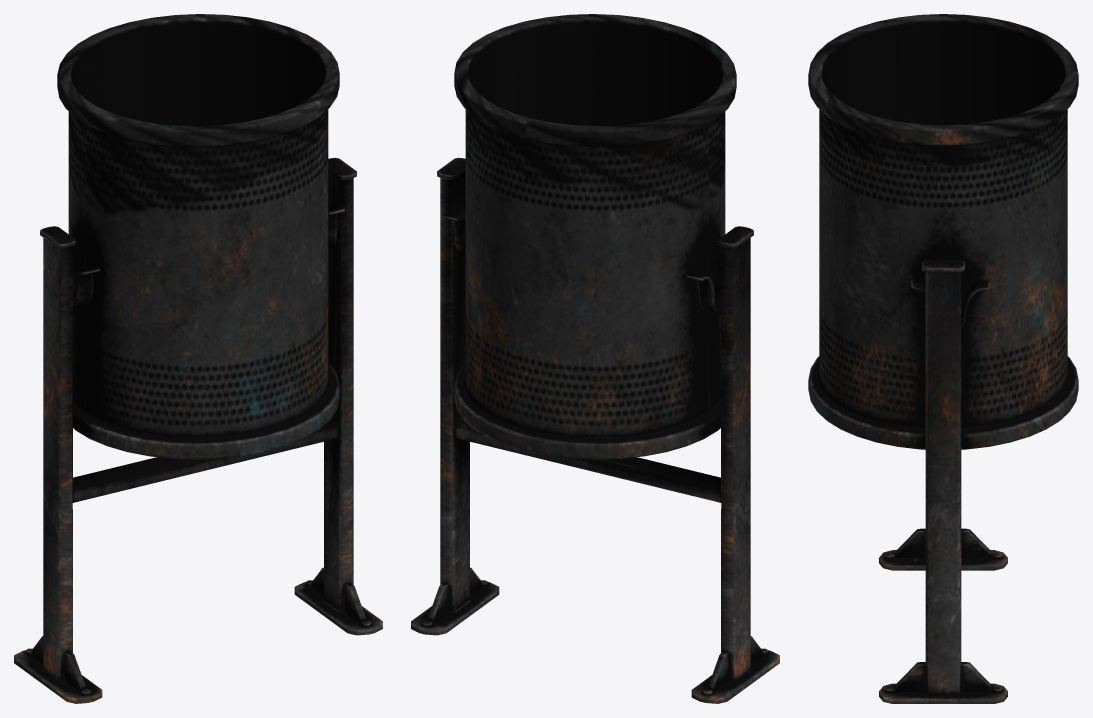
3 views of the same model, side by side, from view 1: azimuth 30°, elevation 25°; view 2: azimuth 150°, elevation 25°; view 3: azimuth 270°, elevation 25° (orthographic). The views are drawn at different scales.
Size of the model in its own units: 0.4629 by 0.8 by 0.3514.
Materials: 1 (1 with a texture image).
